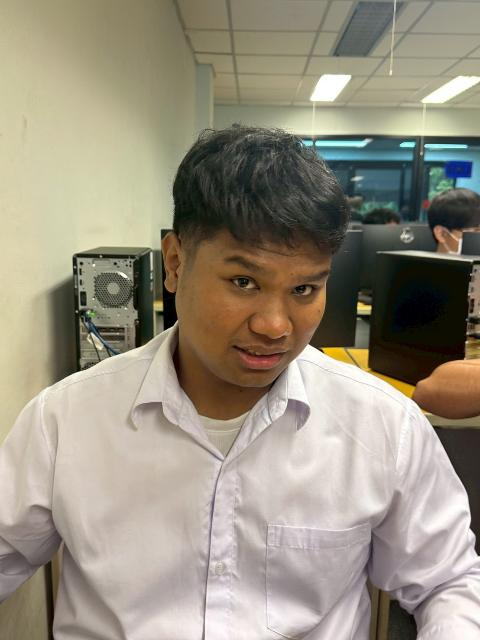fokus: (170, 117, 332, 384)
